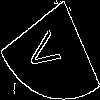V: (25, 24, 68, 77)
